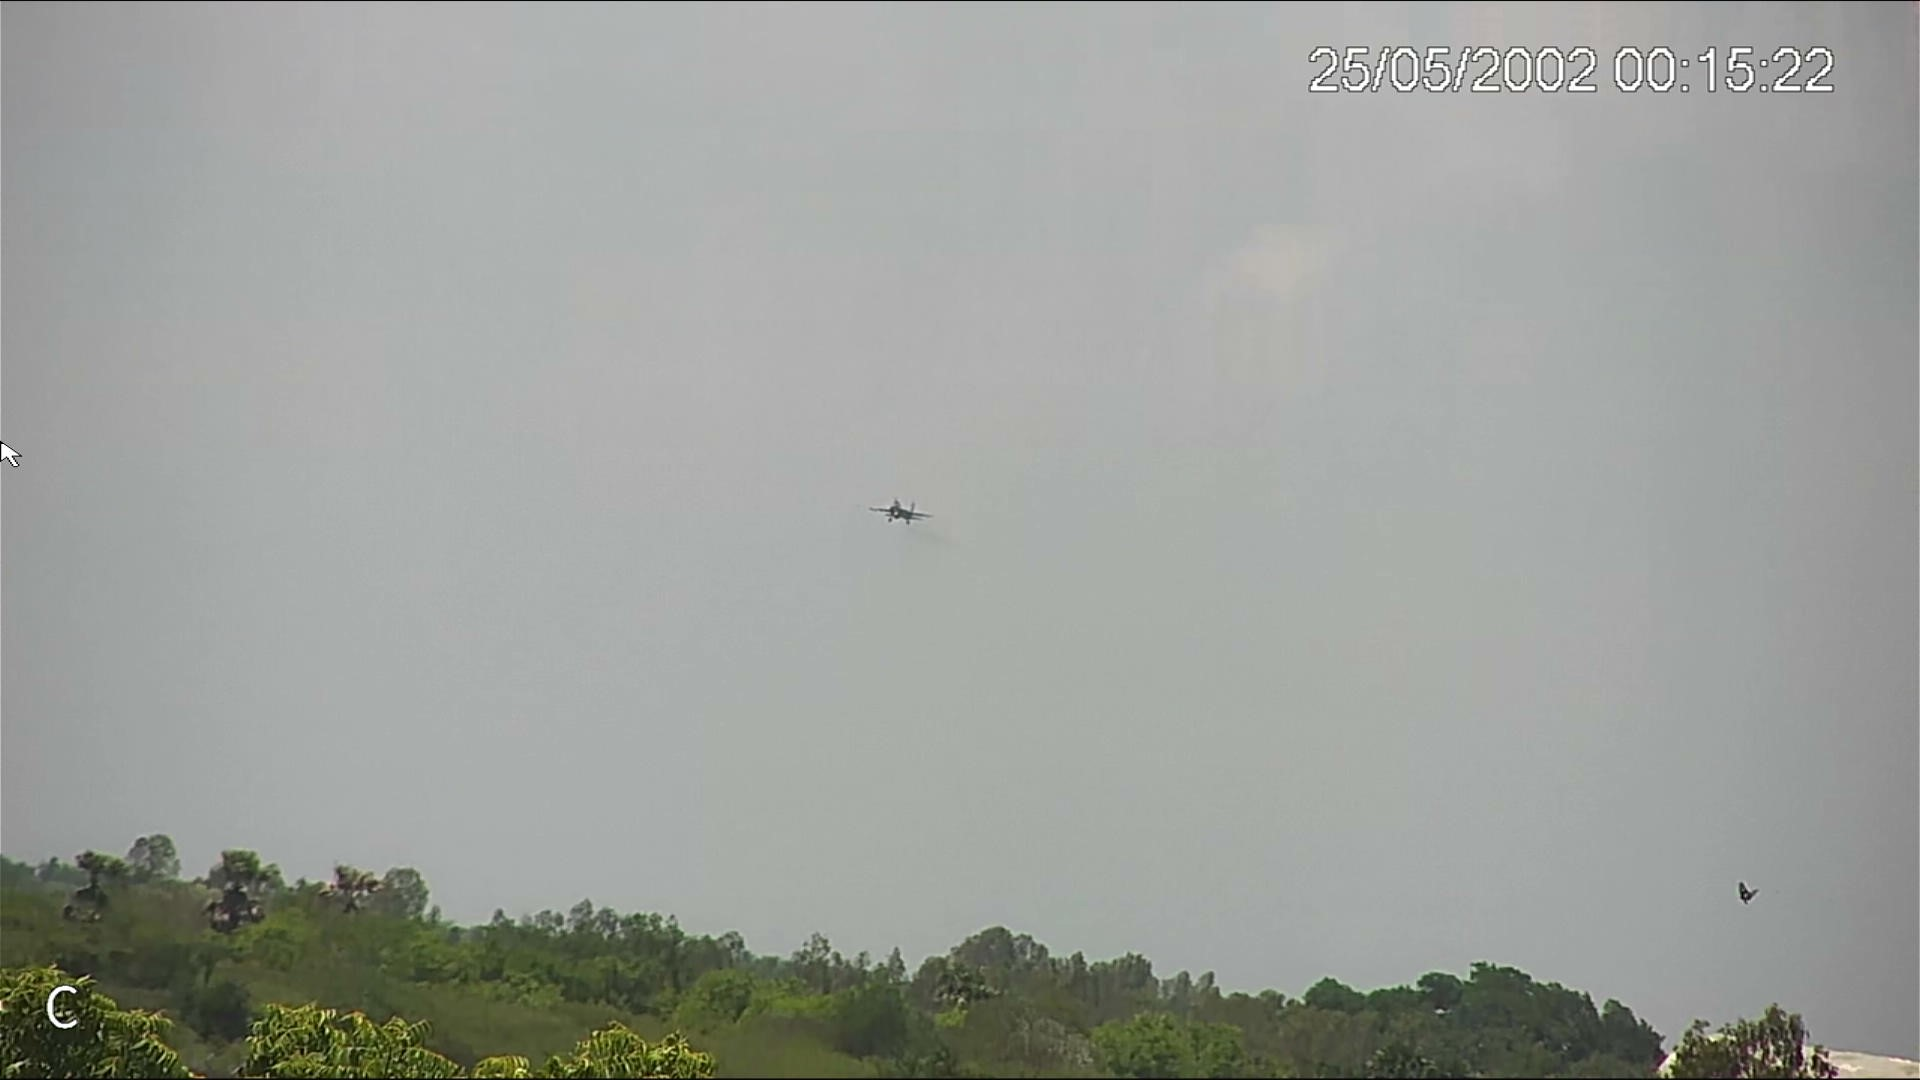SU_30: (870, 497, 934, 527)
